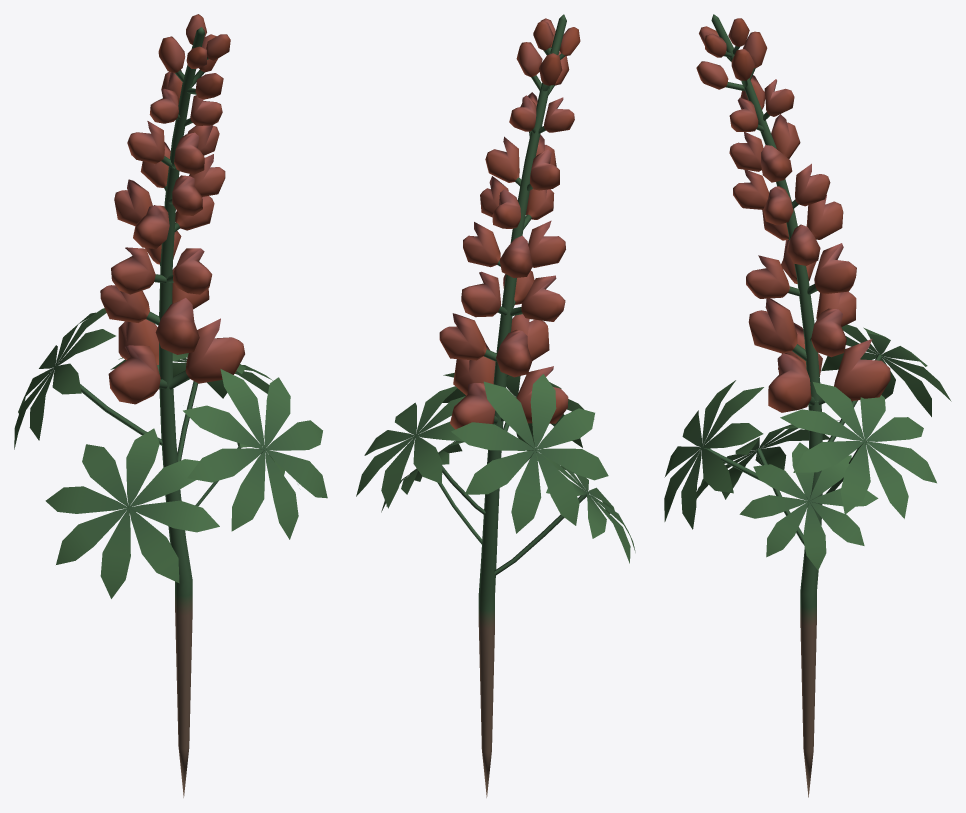
Rendered from plants-flowers-lupine_v3.glb.
3 renders of one model, left to right at view 1: azimuth 30°, elevation 25°; view 2: azimuth 150°, elevation 25°; view 3: azimuth 270°, elevation 25°, orthographic. The views are drawn at different scales.
Parts seen in each view (by area): view 1: Lupine_v3; view 2: Lupine_v3; view 3: Lupine_v3.
Boxes of the visible parts, x1,y1,x2,y2 form: Lupine_v3: (14,14,327,797); Lupine_v3: (356,14,635,797); Lupine_v3: (664,14,951,797).
Bounding box in the file's own units: 0.293 × 0.9 × 0.3047.
